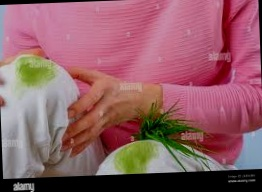earth: (112, 142, 156, 175), (16, 59, 55, 87)
